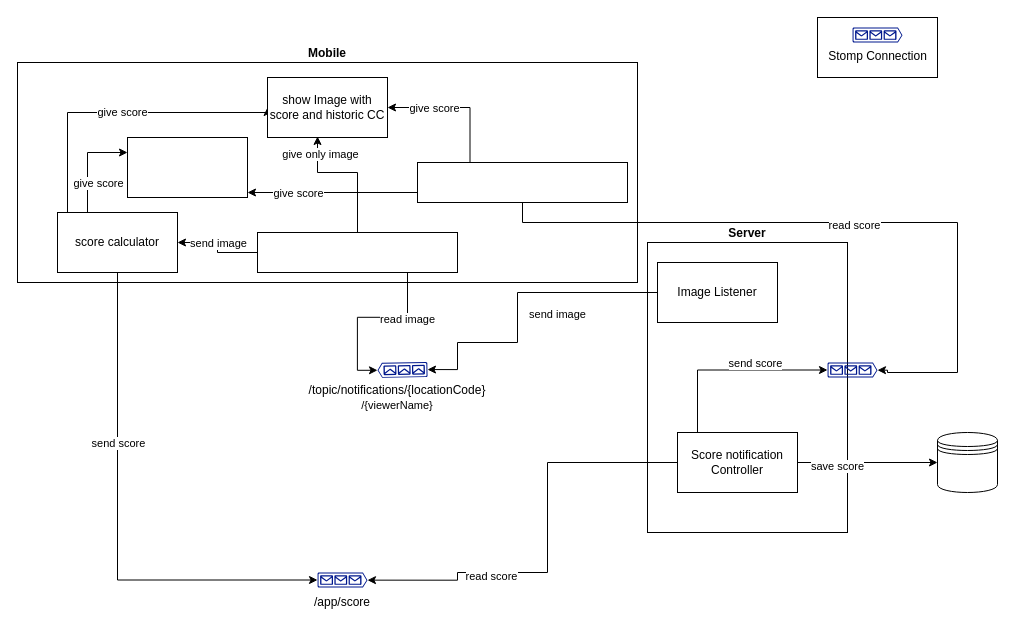
The diagram is 1015 pixels wide and 635 high, and some of its shapes have lost their labels. The shapes that lost their labels are listed below. From the top down, each one's centre as x and y in pixels, then its label:
[187,167]: Show current diagram
[522,182]: /topic/notifications/score/{locationCode} /{viewerName} subscription
[357,252]: /topic/notifications/{locationCode} /{viewerName} subscription
